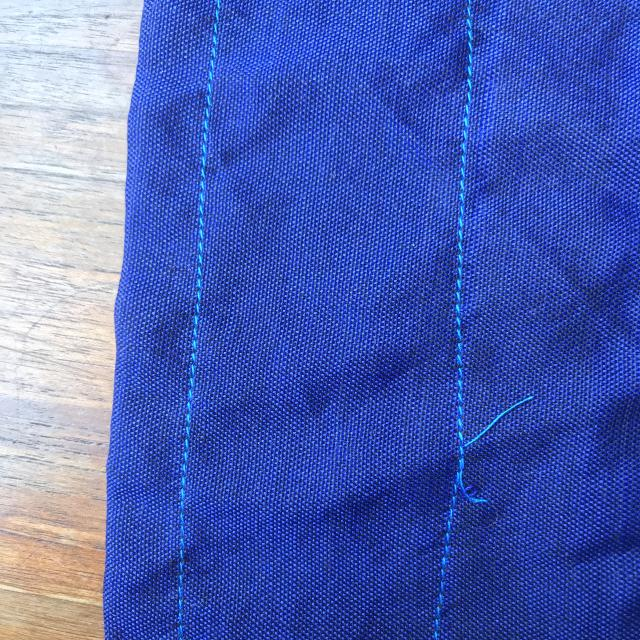good: (439, 140, 474, 342), (190, 140, 214, 302)
